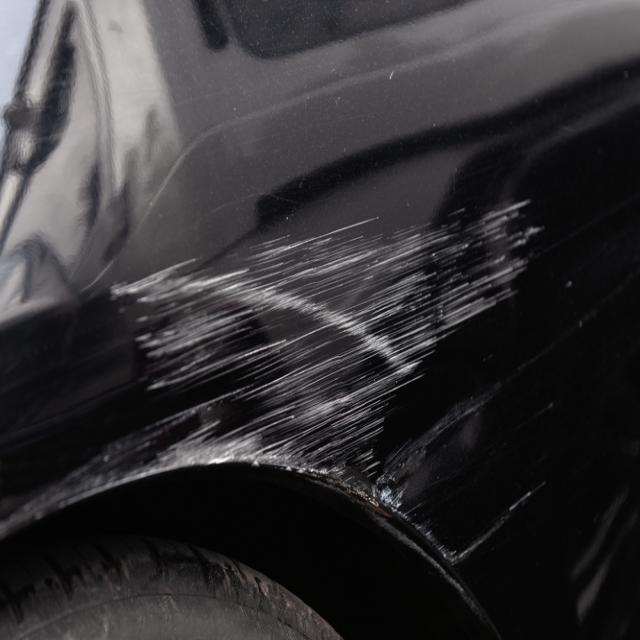scratch: (0, 195, 567, 566)
